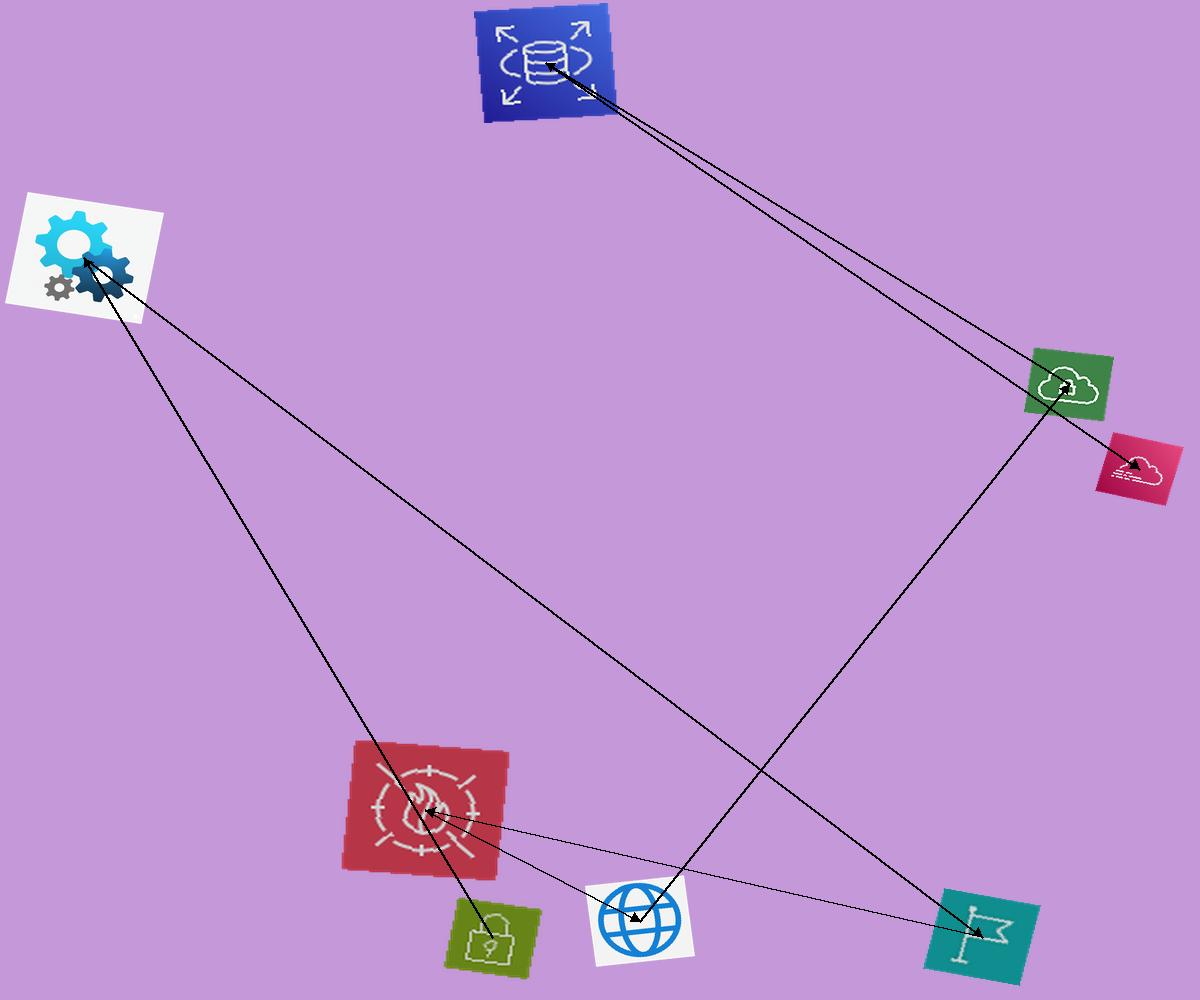AWS-CloudTrail: (1095, 432, 1184, 506)
AWS-Private_vpc: (1024, 347, 1114, 422)
AWS-Public-subnet: (442, 896, 544, 981)
AWS-RDS: (474, 3, 618, 123)
AWS-Region: (923, 888, 1041, 986)
AWS-WAF: (340, 739, 511, 882)
Azure_api: (5, 192, 164, 324)
Azure_http: (585, 875, 695, 967)
